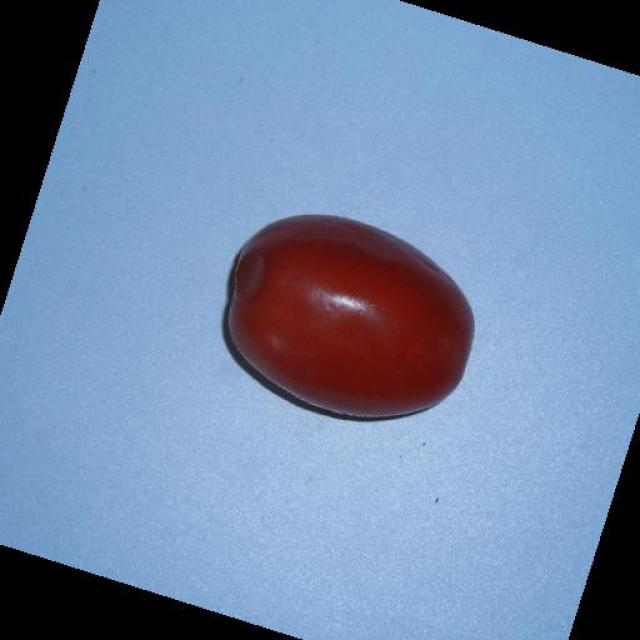Stale_tomato: (208, 218, 480, 414)
